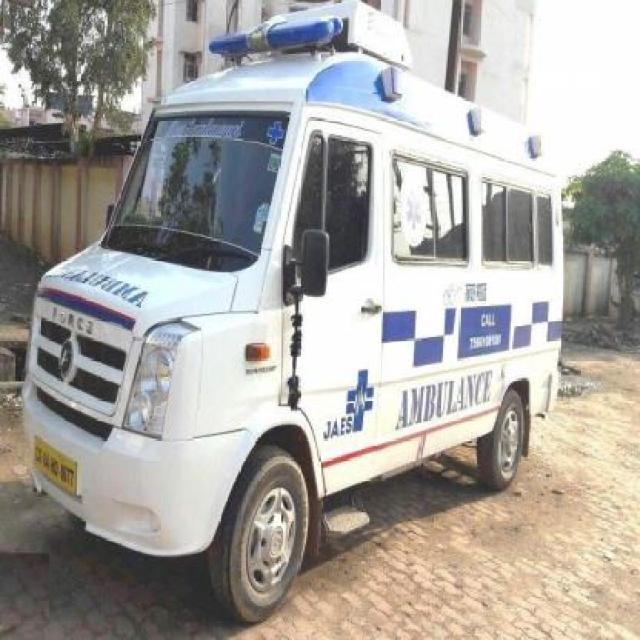Ambulance: (14, 0, 571, 628), (0, 335, 638, 638)
